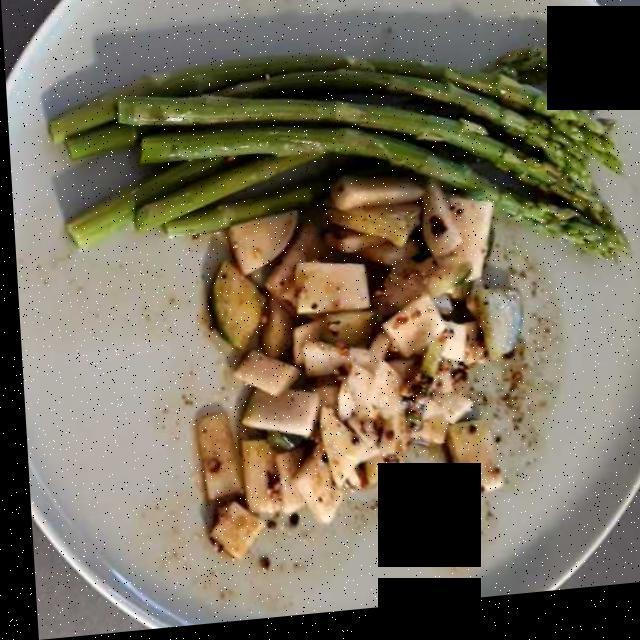asparagus: (62, 55, 603, 263)
cucumber: (192, 174, 553, 555)
kolhrabi: (193, 186, 550, 556)
